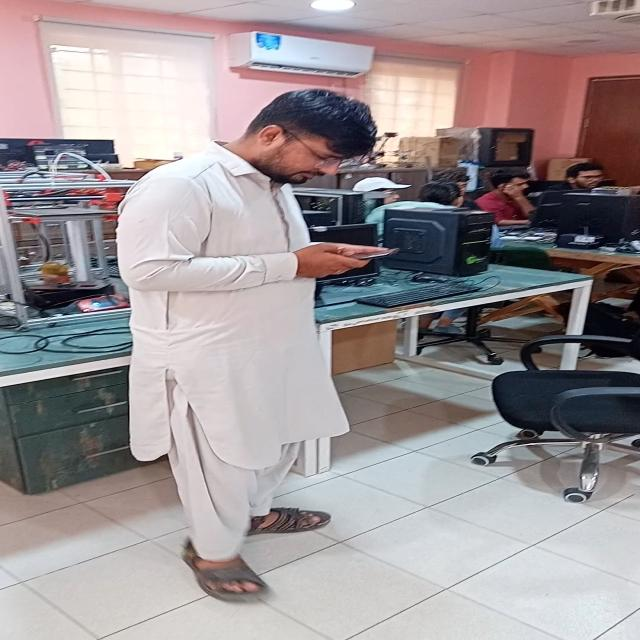dress: (113, 138, 350, 562)
glasses: (310, 146, 376, 168)
